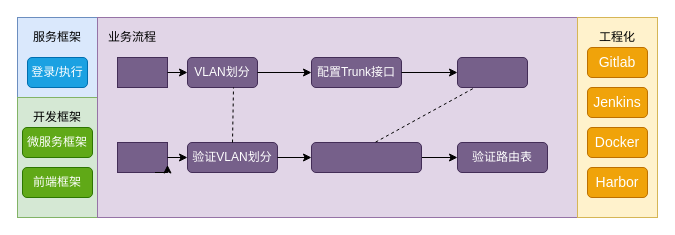
The diagram is 675 pixels wide and 235 high, and some of its shapes have lost their labels. The centre of each missing label's shape, as x and y in pixels:
"子接口划分" goes at point (492, 72).
"操作" goes at point (142, 72).
"验证" goes at point (142, 157).
"验证PC之间连通性" goes at point (366, 157).
